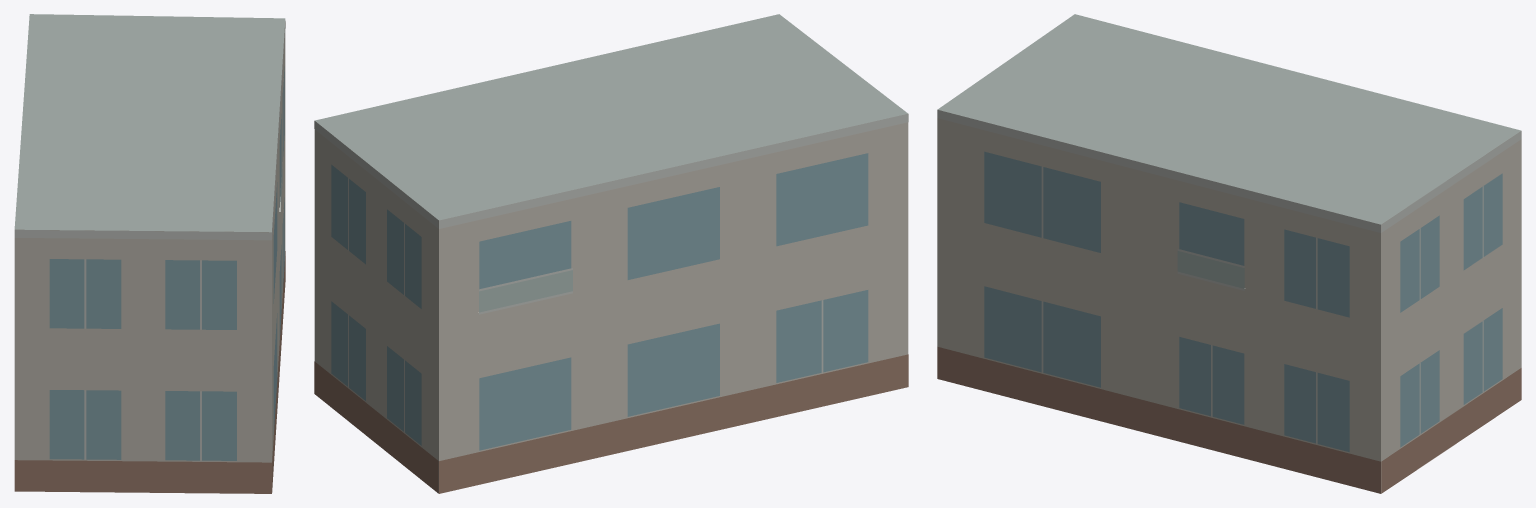
The model's file is survey-upis-32747167.glb.
3 views of the same model, side by side, from view 1: azimuth 30°, elevation 25°; view 2: azimuth 150°, elevation 25°; view 3: azimuth 270°, elevation 25° (orthographic). The views are drawn at different scales.
Parts seen in each view (by area): view 1: survey-upis-32747167.tmp; view 2: survey-upis-32747167.tmp; view 3: survey-upis-32747167.tmp.
Boxes of the visible parts, left/top/right/bottom form: survey-upis-32747167.tmp: left=14, top=14, right=285, bottom=493; survey-upis-32747167.tmp: left=314, top=14, right=908, bottom=493; survey-upis-32747167.tmp: left=937, top=14, right=1521, bottom=493.
Size of the model in its own units: 13.1 by 7.8 by 15.35.
